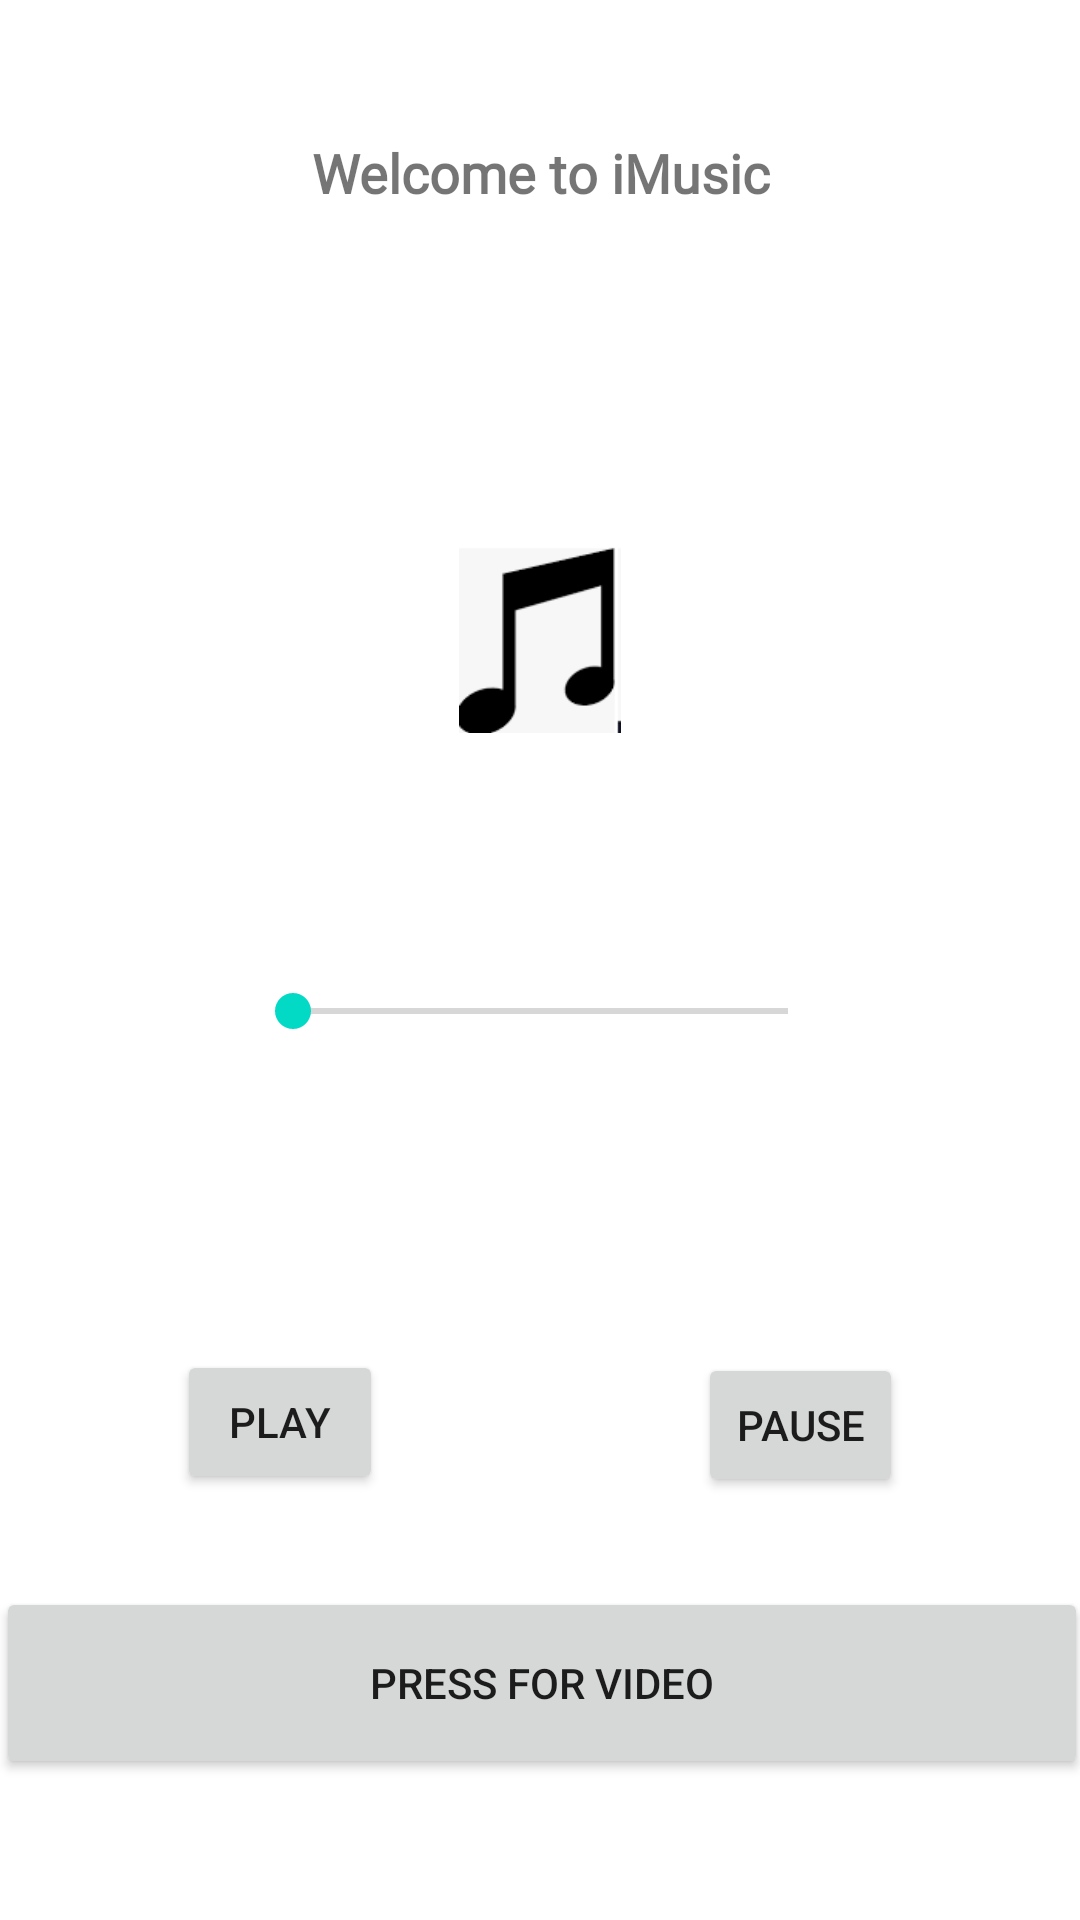

Locate icon controls on the screen. Image size 1080px x 1920px, boxes as (x1, y1, x2, y2).
music: (459, 548, 621, 733)
